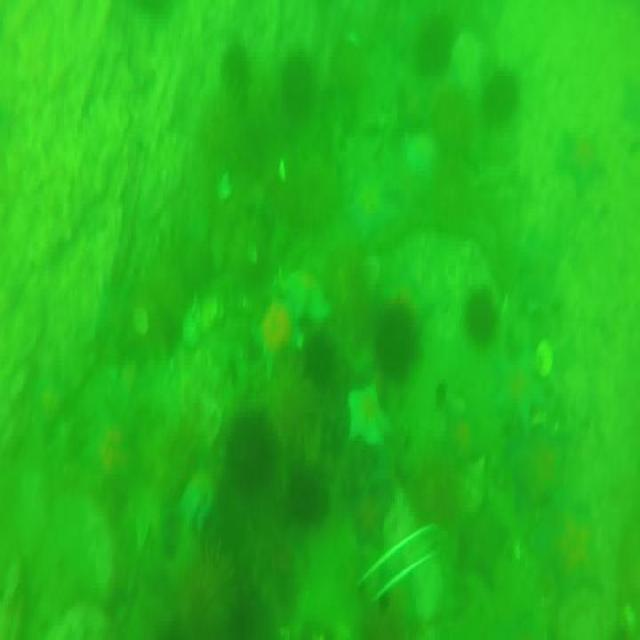echinus: (222, 409, 276, 492), (371, 302, 417, 379), (287, 463, 328, 529), (415, 22, 461, 78), (280, 44, 313, 114), (302, 326, 337, 386), (462, 292, 499, 348), (482, 72, 524, 121)
scallop: (536, 338, 555, 379), (132, 300, 151, 340), (278, 158, 291, 185)
starfish: (532, 501, 598, 605), (507, 425, 569, 533), (248, 305, 304, 378), (347, 170, 402, 242), (276, 264, 343, 322), (495, 333, 539, 419), (348, 373, 390, 446)
